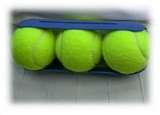tennis ball: (102, 30, 152, 74), (11, 26, 55, 71), (55, 30, 102, 72)
